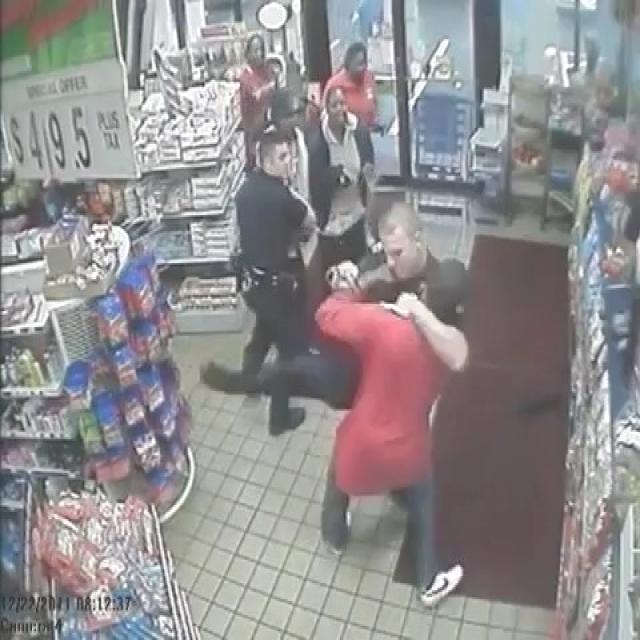fight: (314, 196, 476, 613)
